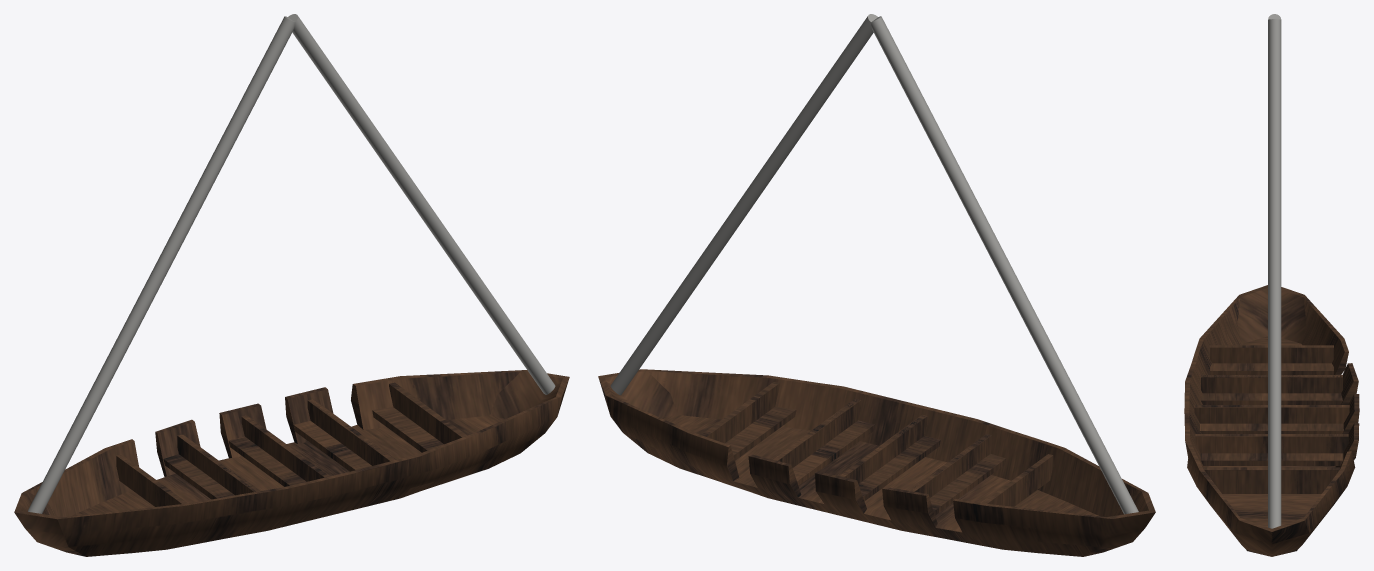
The model's file is barco.obj.
3 renders of one model, left to right at view 1: azimuth 30°, elevation 25°; view 2: azimuth 150°, elevation 25°; view 3: azimuth 270°, elevation 25°, orthographic. The views are drawn at different scales.
Visible parts, largest first — view 1: barco:pCube15; view 2: barco:pCube15; view 3: barco:pCube15.
Part boxes in pixels (<box>): barco:pCube15: <box>14,14,569,556</box>; barco:pCube15: <box>598,14,1155,556</box>; barco:pCube15: <box>1184,14,1359,556</box>.
Size of the model in its own units: 2.09 by 1.78 by 0.6238.
Materials: 1 (1 with a texture image).
